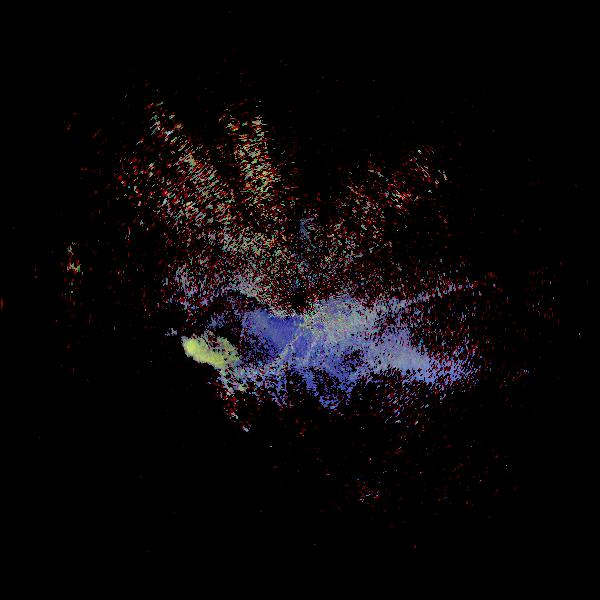roost: (93, 291, 270, 468)
